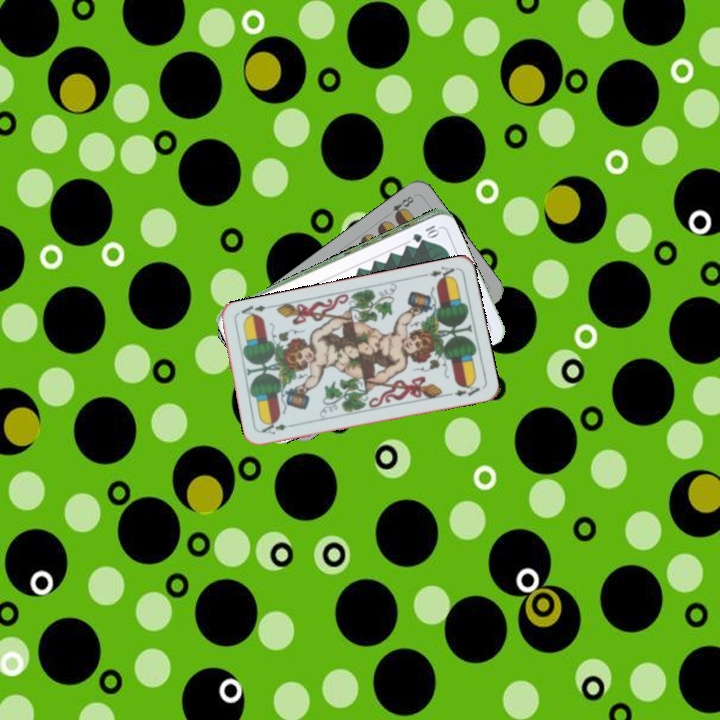E8: (389, 192, 416, 221)
EA: (418, 262, 459, 283), (258, 420, 298, 437)
G10: (408, 221, 441, 243)
